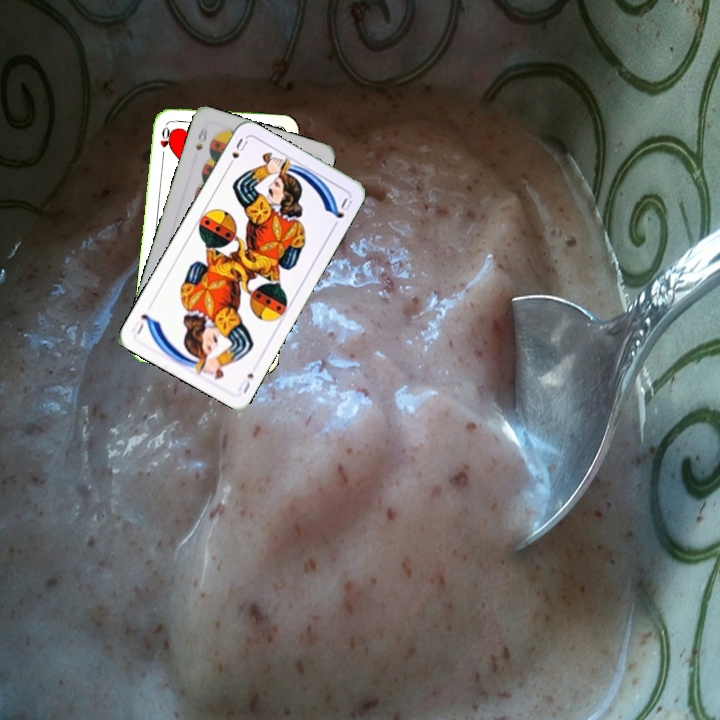HO: (156, 118, 175, 159)
S8: (191, 124, 210, 153)
SU: (223, 134, 250, 171), (234, 369, 256, 396)
